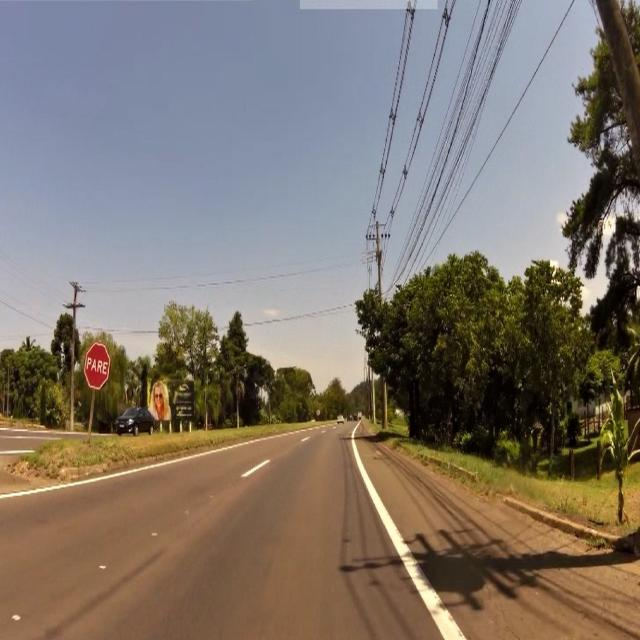R-1: (88, 345, 108, 390)
